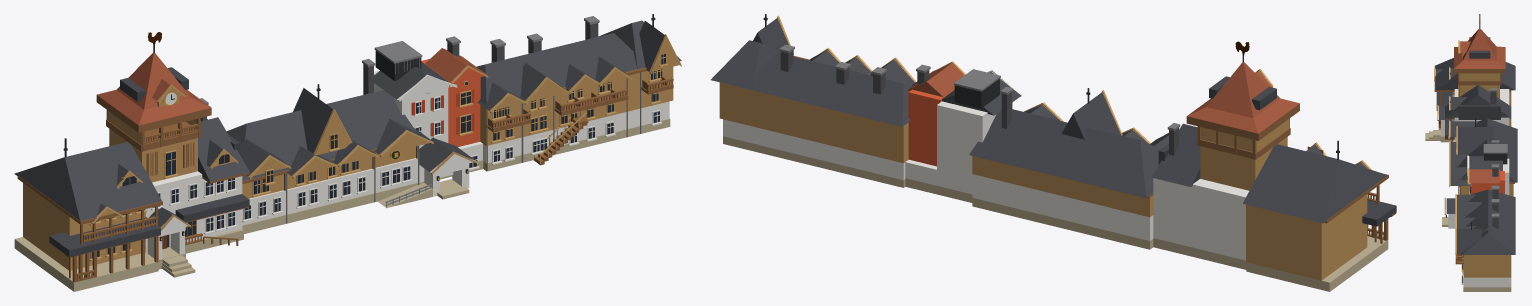
File: grezy.glb
3 views of the same model, side by side, from view 1: azimuth 30°, elevation 25°; view 2: azimuth 150°, elevation 25°; view 3: azimuth 270°, elevation 25° (orthographic). The views are drawn at different scales.
Parts seen in each view (by area): view 1: slate_roof, plaster_white, timber, timber_dark, stone, trim, glass, copper_roof, gray_metal, plaster_orange, chimney, black_metal (+1 smaller); view 2: slate_roof, timber, plaster_white, stone, copper_roof, timber_dark, plaster_orange, chimney, gray_metal, black_metal, trim; view 3: slate_roof, timber, copper_roof, plaster_white, timber_dark, stone, trim, gray_metal, chimney, plaster_orange, black_metal.
Boxes of the visible parts, x1,y1,x2,y2 form: slate_roof: (14,20,681,257); plaster_white: (146,70,669,259); timber: (23,37,679,270); timber_dark: (17,67,673,282); stone: (14,118,670,291); trim: (89,34,681,261); glass: (91,54,665,258); copper_roof: (97,48,486,125); gray_metal: (200,16,641,223); plaster_orange: (421,59,487,146); chimney: (200,22,598,121); black_metal: (63,14,655,247); slate_roof: (711,18,1396,226); timber: (719,18,1368,280); plaster_white: (723,70,1249,260); stone: (723,136,1388,291); copper_roof: (907,62,1299,133); timber_dark: (793,56,1396,243); plaster_orange: (908,63,964,166); chimney: (780,50,1178,155); gray_metal: (779,44,1180,130); black_metal: (763,14,1339,159); trim: (777,15,1371,169); slate_roof: (1435,37,1517,254); timber: (1435,41,1513,277); copper_roof: (1454,28,1505,183); plaster_white: (1438,89,1513,287); timber_dark: (1434,66,1514,264); stone: (1425,122,1511,291); trim: (1434,40,1471,272); gray_metal: (1458,88,1507,274); chimney: (1490,91,1498,229); plaster_orange: (1469,169,1504,193); black_metal: (1439,24,1507,229).
Size of the model in its own units: 21.14 by 6.78 by 4.39.
